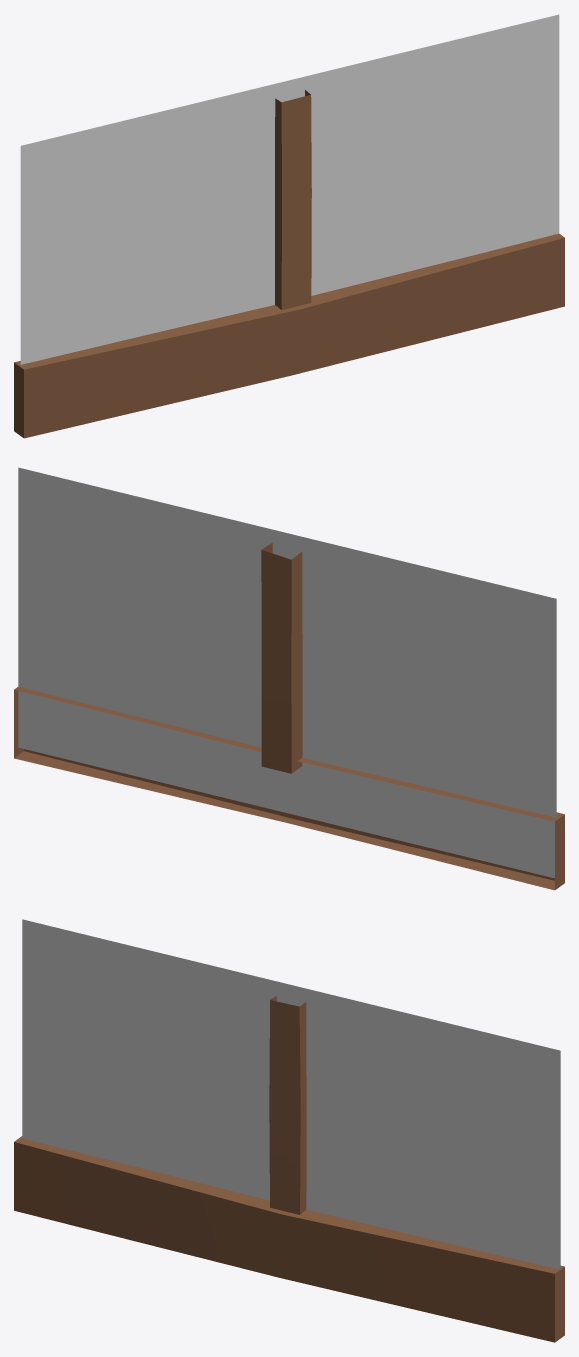
File: WarehouseRoofWall 1.fbx
3 renders of one model, top to bottom at view 1: azimuth 30°, elevation 25°; view 2: azimuth 150°, elevation 25°; view 3: azimuth 330°, elevation 25°, orthographic.
Parts seen in each view (by area): view 1: WarehouseRoofWall; view 2: WarehouseRoofWall; view 3: WarehouseRoofWall.
Boxes of the visible parts, <box> form: WarehouseRoofWall: <box>14,14,564,438</box>; WarehouseRoofWall: <box>14,467,564,890</box>; WarehouseRoofWall: <box>14,919,564,1342</box>.
Bounding box in the file's own units: 201 × 103 × 13.57.
